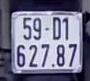1: (61, 15, 73, 42)
2: (28, 43, 38, 70)
5: (21, 15, 33, 41)
6: (15, 40, 26, 69)
7: (39, 40, 50, 68), (67, 43, 77, 68)
8: (55, 44, 68, 69)
9: (32, 16, 43, 41)
D: (50, 16, 62, 40)
